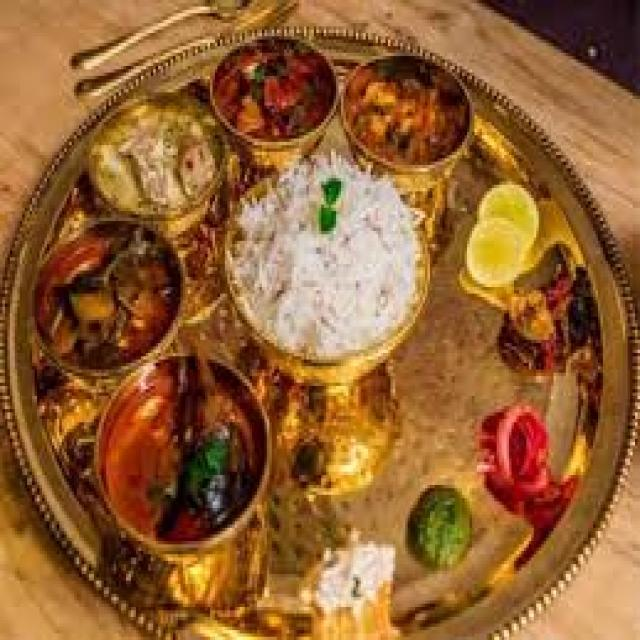dal: (465, 189, 537, 295)
pickle: (339, 59, 468, 173), (484, 402, 557, 497)
rice: (231, 152, 433, 381), (88, 90, 227, 227)
sweet: (93, 365, 222, 547), (215, 33, 339, 158)
